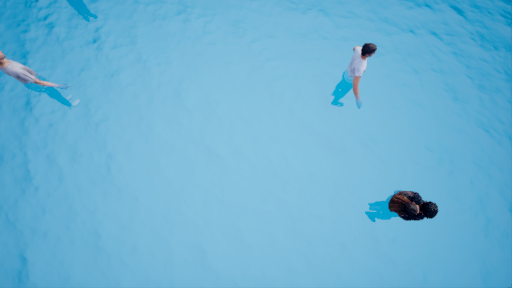person: (2, 51, 78, 114), (326, 39, 384, 118), (362, 183, 439, 228)
